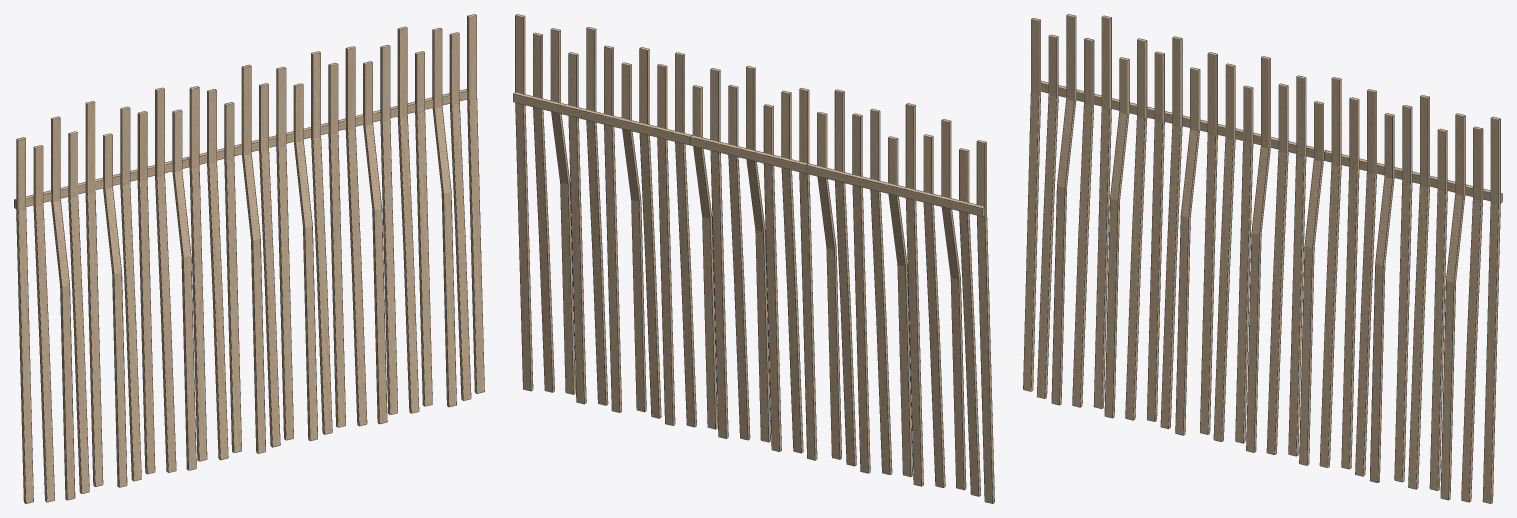
File: modell.glb
The picture shows the model from 3 angles, left to right: view 1: azimuth 30°, elevation 25°; view 2: azimuth 150°, elevation 25°; view 3: azimuth 330°, elevation 25°; orthographic projection. The views are drawn at different scales.
Visible parts, largest first — view 1: 2025-284 Spilevegg eik; view 2: 2025-284 Spilevegg eik; view 3: 2025-284 Spilevegg eik.
Part boxes in pixels (bbox=[...]): 2025-284 Spilevegg eik: bbox=[14, 14, 484, 503]; 2025-284 Spilevegg eik: bbox=[513, 14, 994, 503]; 2025-284 Spilevegg eik: bbox=[1023, 14, 1502, 503].
Bounding box in the file's own units: 2755 × 2163 × 192.
2 materials, 1 textured.
